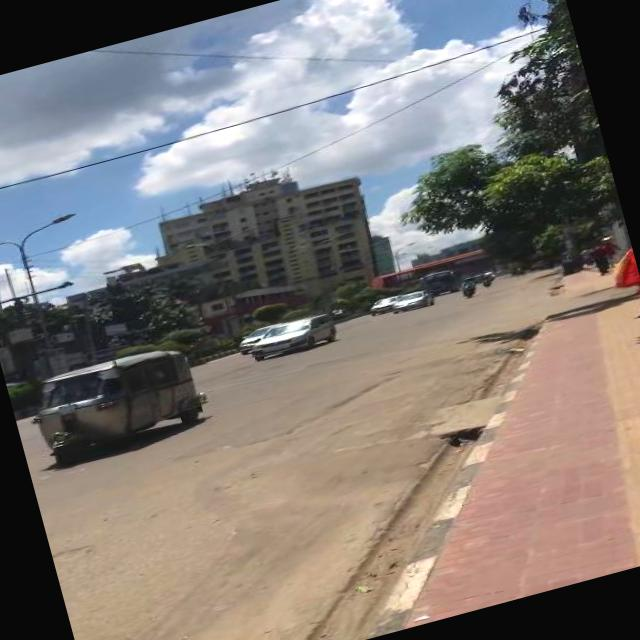bus: (414, 265, 458, 297)
car: (242, 310, 336, 364), (231, 319, 290, 354), (386, 286, 433, 314), (362, 292, 403, 316)
motorcycle: (19, 336, 212, 468), (456, 274, 476, 298)
